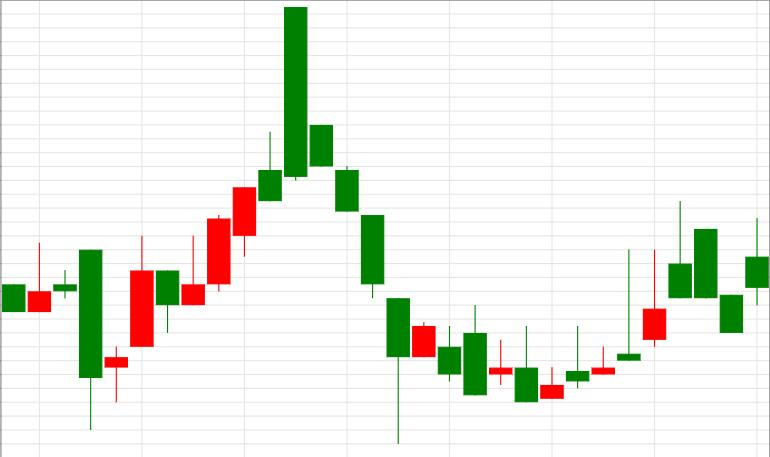shooting_star_fall: (515, 249, 666, 402)
three_black_crows_fall: (104, 7, 384, 402)
